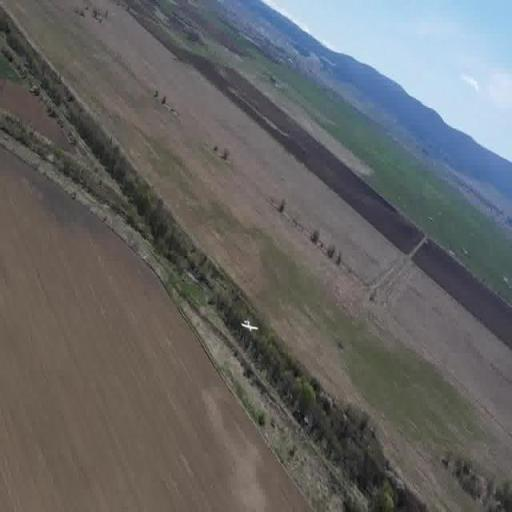uav: (236, 316, 262, 342)
